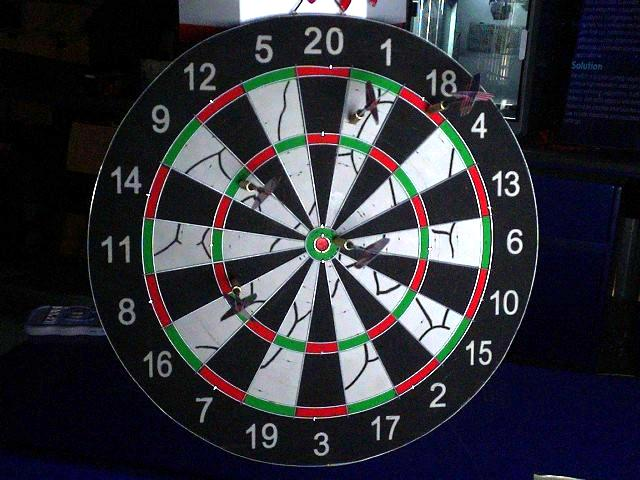bullseye: (307, 228, 343, 262)
double_18: (404, 95, 441, 123)
single_1: (344, 82, 391, 137)
single_8: (228, 253, 293, 287)
triple_9: (226, 168, 252, 197)
